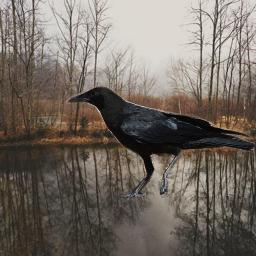Crow: (66, 84, 255, 198)
